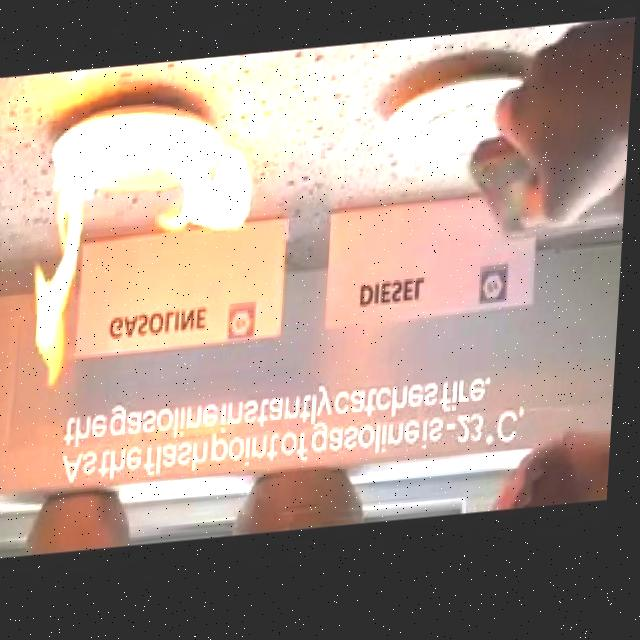Fire: (27, 107, 261, 393)
